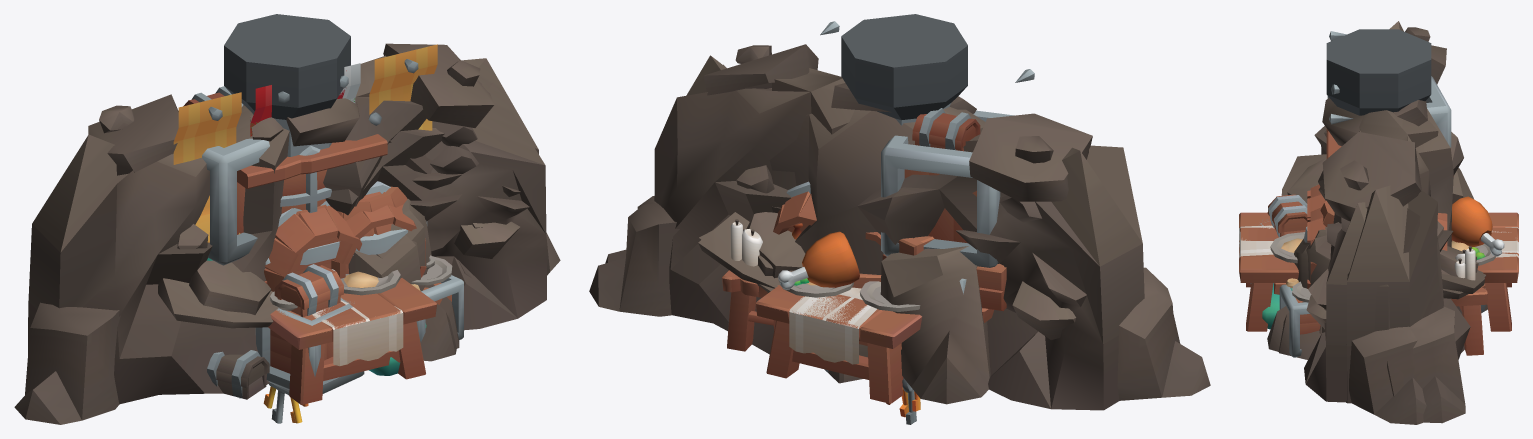
Rendered from dungeon.glb.
The picture shows the model from 3 angles, left to right: view 1: azimuth 30°, elevation 25°; view 2: azimuth 150°, elevation 25°; view 3: azimuth 270°, elevation 25°; orthographic projection. The views are drawn at different scales.
Parts seen in each view (by area): view 1: rubble_large, box_stacked, rubble_half, pillar, table_long, banner_triple_yellow, keg, table_long_tablecloth_decorated_A, shelves, keg_decorated, bed_decorated, banner_shield_green (+4 smaller); view 2: rubble_large, rubble_half, pillar, box_stacked, table_long, table_long_tablecloth_decorated_A, table_long_decorated_A, bed_decorated, keg_decorated, crates_stacked, keyring_hanging; view 3: rubble_half, rubble_large, pillar, table_long, bed_decorated, box_stacked, table_long_decorated_A, table_long_tablecloth_decorated_A, keg_decorated, keg.
Boxes of the visible parts, x1=… form: rubble_large: x1=14, y1=82, x2=560, y2=424; box_stacked: x1=178, y1=86, x2=426, y2=399; rubble_half: x1=323, y1=43, x2=538, y2=348; pillar: x1=224, y1=14, x2=350, y2=156; table_long: x1=268, y1=278, x2=436, y2=404; banner_triple_yellow: x1=173, y1=44, x2=437, y2=242; keg: x1=264, y1=201, x2=361, y2=291; table_long_tablecloth_decorated_A: x1=299, y1=300, x2=436, y2=366; shelves: x1=237, y1=134, x2=387, y2=283; keg_decorated: x1=207, y1=181, x2=427, y2=278; bed_decorated: x1=291, y1=255, x2=463, y2=346; banner_shield_green: x1=250, y1=98, x2=381, y2=213; rubble_large: x1=605, y1=64, x2=1210, y2=410; rubble_half: x1=589, y1=44, x2=854, y2=354; pillar: x1=841, y1=14, x2=967, y2=125; box_stacked: x1=824, y1=108, x2=1014, y2=383; table_long: x1=755, y1=285, x2=921, y2=403; table_long_tablecloth_decorated_A: x1=756, y1=296, x2=892, y2=364; table_long_decorated_A: x1=778, y1=231, x2=920, y2=311; bed_decorated: x1=722, y1=219, x2=903, y2=379; keg_decorated: x1=773, y1=181, x2=1006, y2=322; crates_stacked: x1=852, y1=236, x2=934, y2=288; keyring_hanging: x1=886, y1=378, x2=920, y2=424; rubble_half: x1=1278, y1=110, x2=1484, y2=423; rubble_large: x1=1267, y1=21, x2=1486, y2=424; pillar: x1=1326, y1=29, x2=1431, y2=115; table_long: x1=1239, y1=212, x2=1518, y2=331; bed_decorated: x1=1274, y1=246, x2=1487, y2=357; box_stacked: x1=1250, y1=76, x2=1487, y2=329; table_long_decorated_A: x1=1270, y1=196, x2=1504, y2=265; table_long_tablecloth_decorated_A: x1=1239, y1=225, x2=1518, y2=257; keg_decorated: x1=1307, y1=206, x2=1447, y2=288; keg: x1=1307, y1=184, x2=1325, y2=218.
Size of the model in its own units: 8.13 by 5.2 by 4.
1 material, 1 textured.
